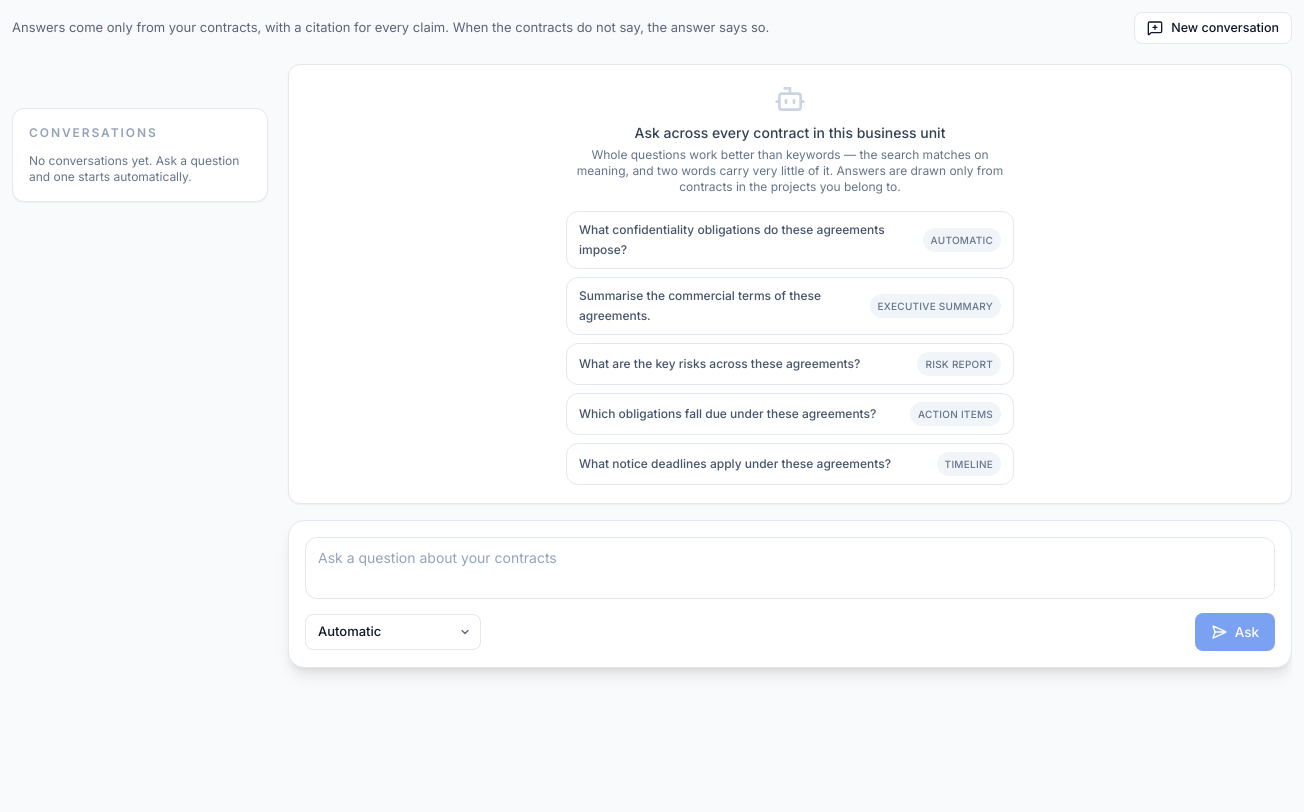
Test case: CopilotPage › marks an answer the guardrail produced
The image size is (1304, 812).
Type "What is the notice period?" into the text box named "your question" at (790, 568), box [305,537,1275,599]
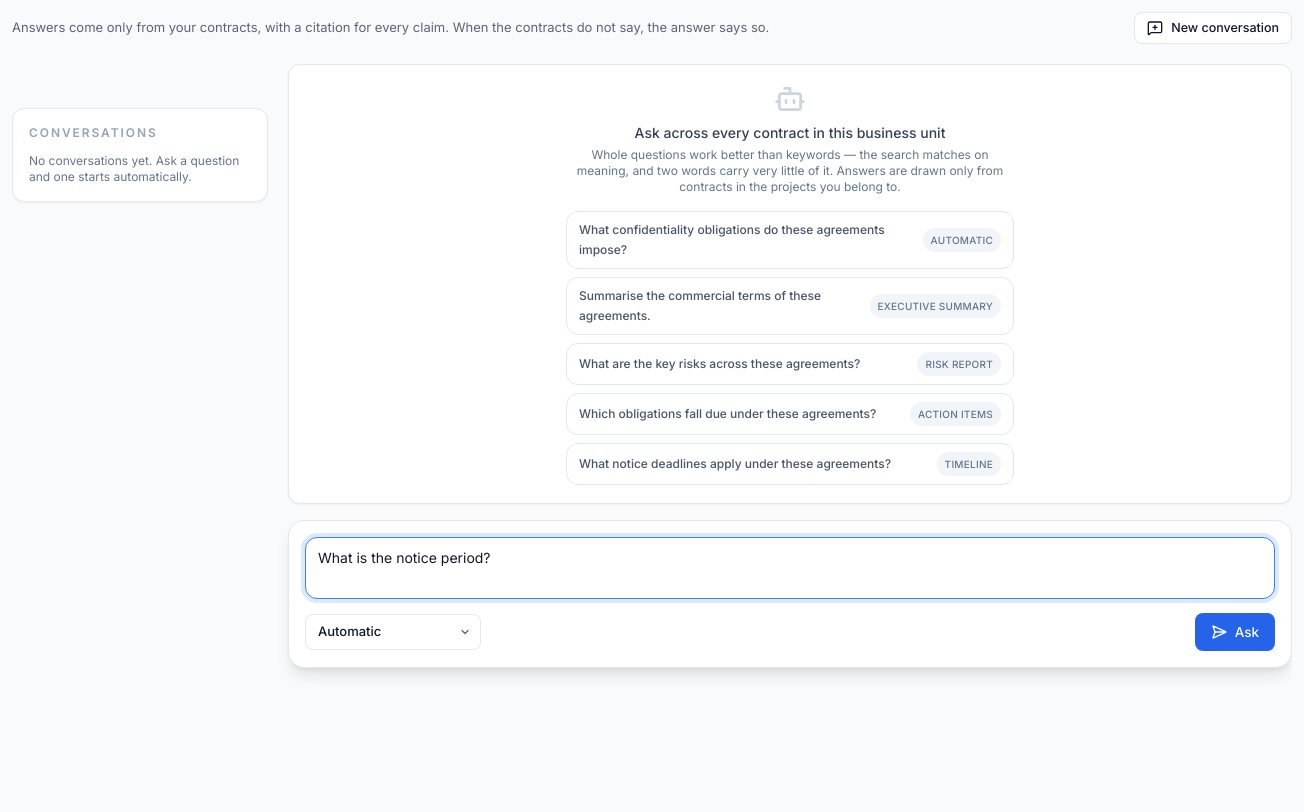
Click the button "Ask" at (1235, 632), box [1195,613,1275,651]
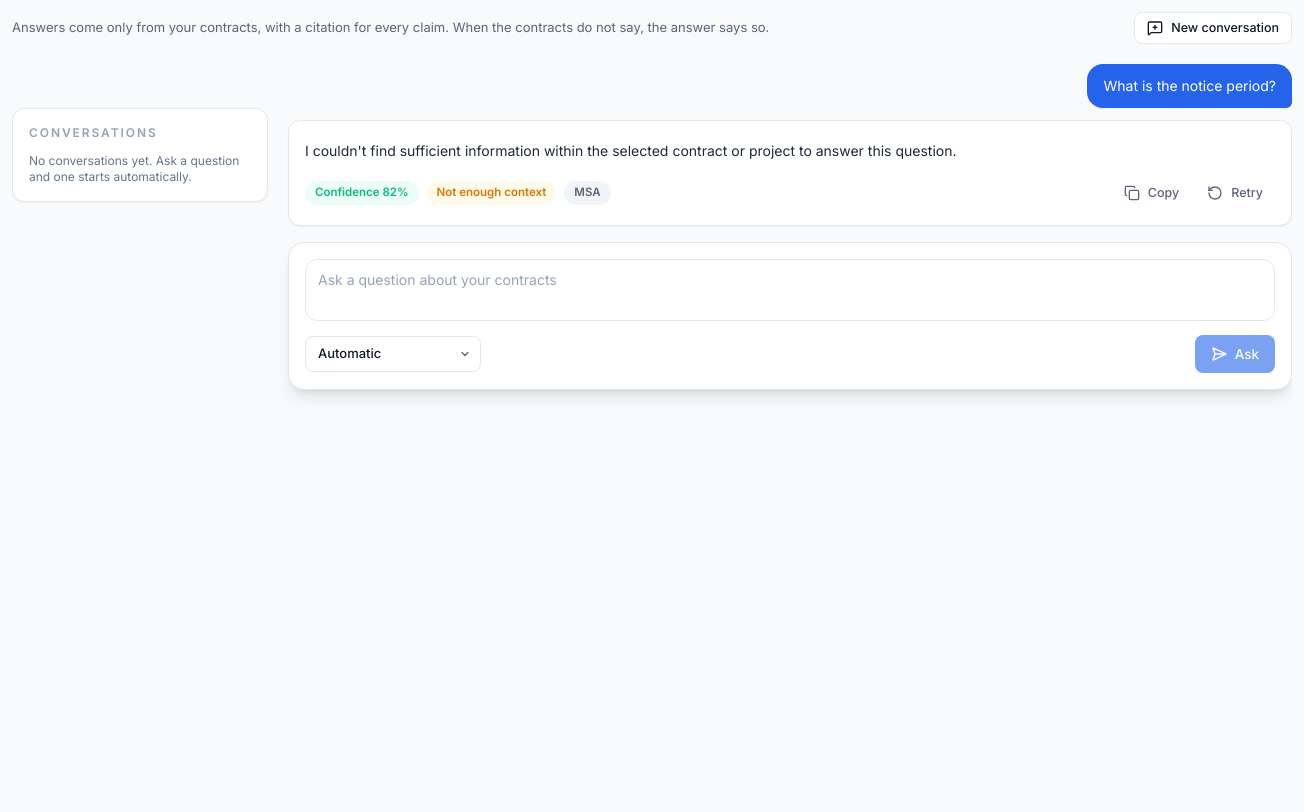
expect the text "Not enough context" is shown: met, box [426,181,556,205]
